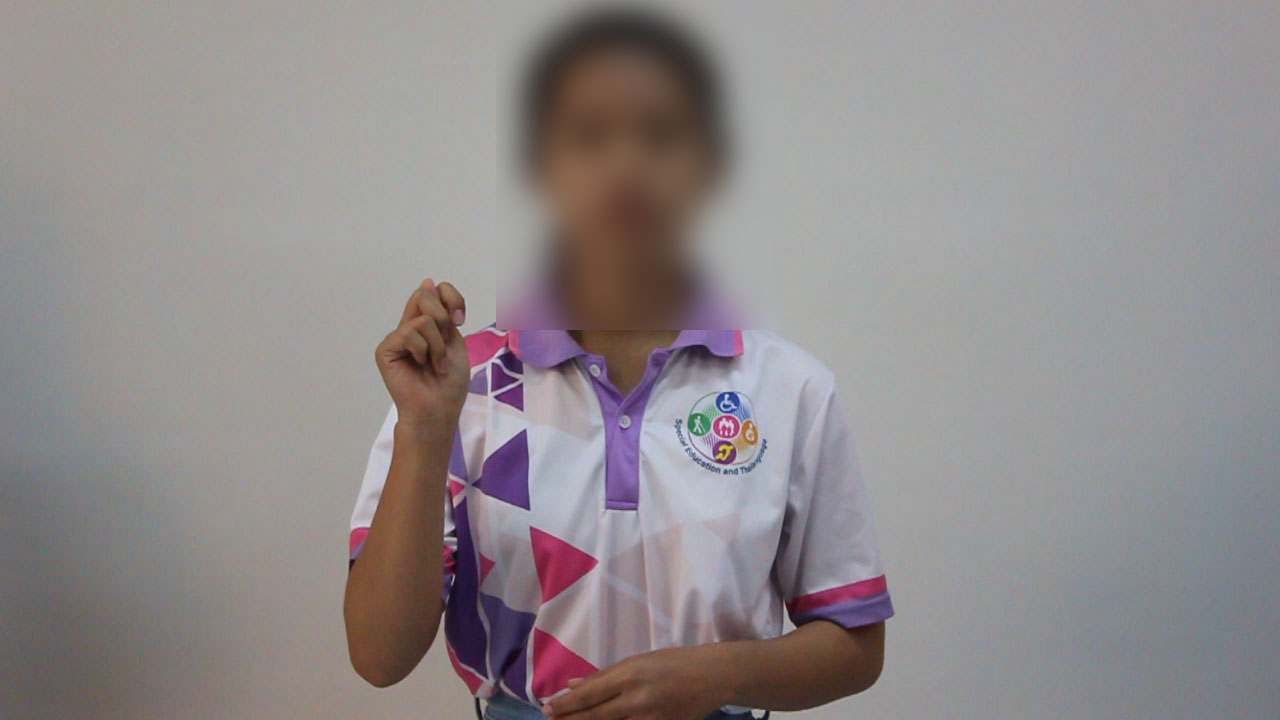tor: (355, 270, 495, 439)
